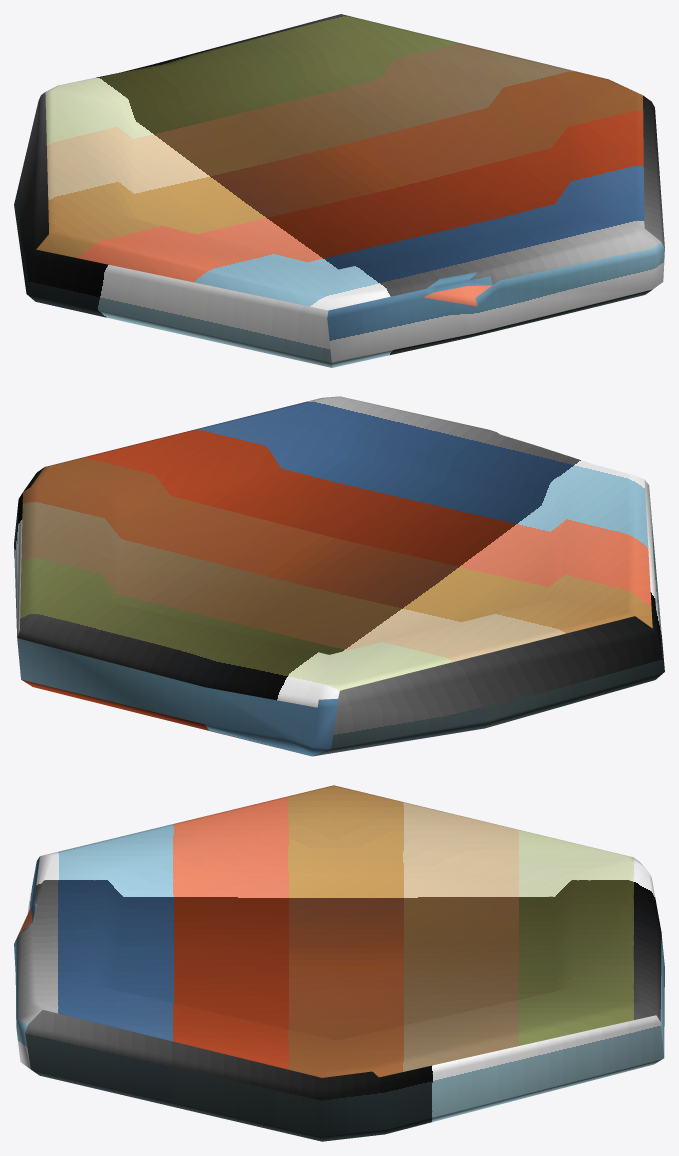
The model's file is Prop_PuzzleCage.glb.
3 views of the same model, one above another, from view 1: azimuth 30°, elevation 25°; view 2: azimuth 150°, elevation 25°; view 3: azimuth 270°, elevation 25° (orthographic).
Visible parts, largest first — view 1: Prop_PuzzleCage; view 2: Prop_PuzzleCage; view 3: Prop_PuzzleCage.
Boxes of the visible parts, x1,y1,x2,y2 form: Prop_PuzzleCage: (14,14,664,367); Prop_PuzzleCage: (14,396,664,756); Prop_PuzzleCage: (14,785,664,1141).
Bounding box in the file's own units: 1.56 × 0.1507 × 1.38.
1 material, 1 textured.
